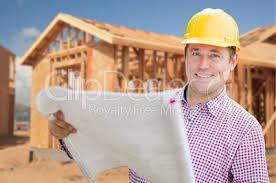Person_wearing_helmet: (176, 4, 242, 61)
